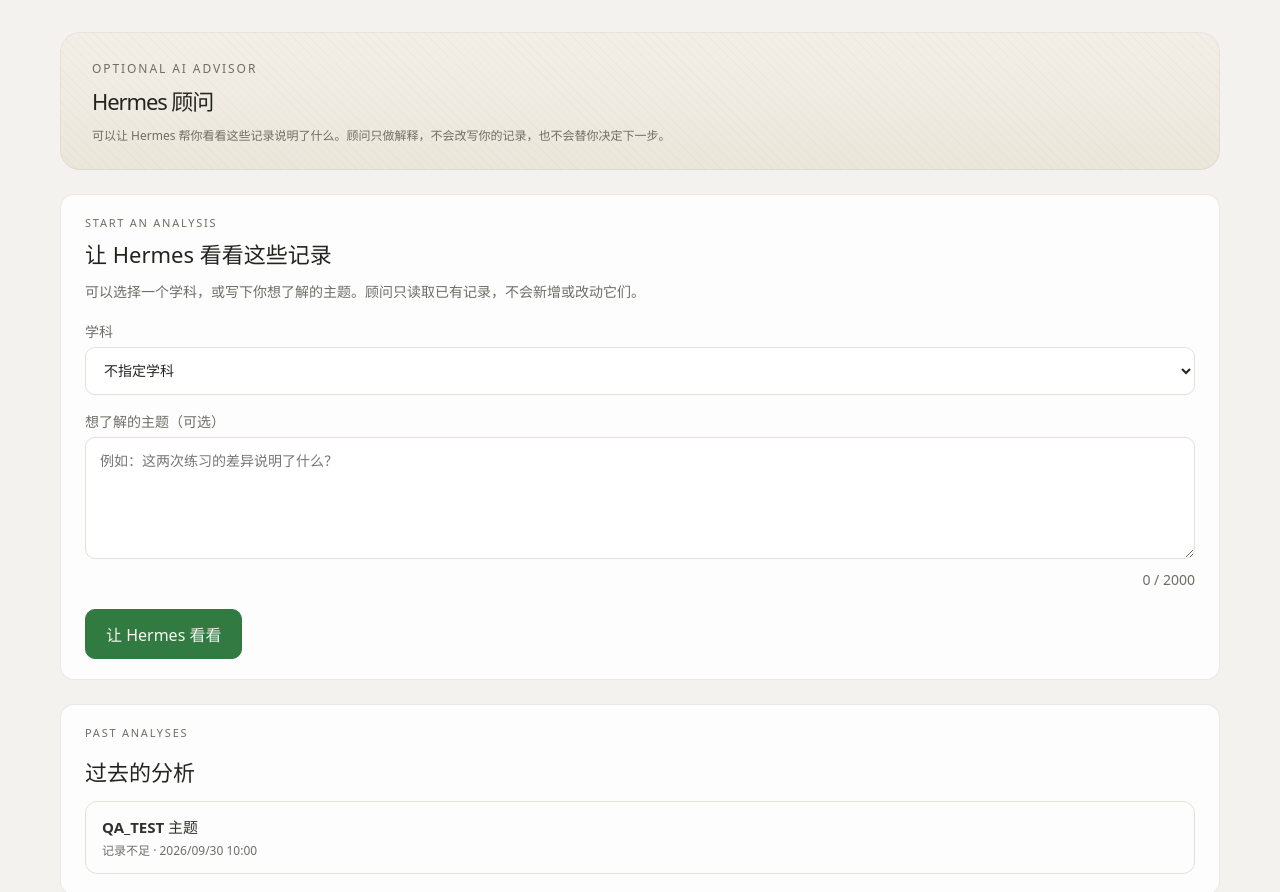
optional AI advisor › shows the standard insufficient-records message
Click the button with aria-label "打开分析：QA_TEST 主题". click: (150, 827)
box: [85,800,1195,874]
(page scrolled)
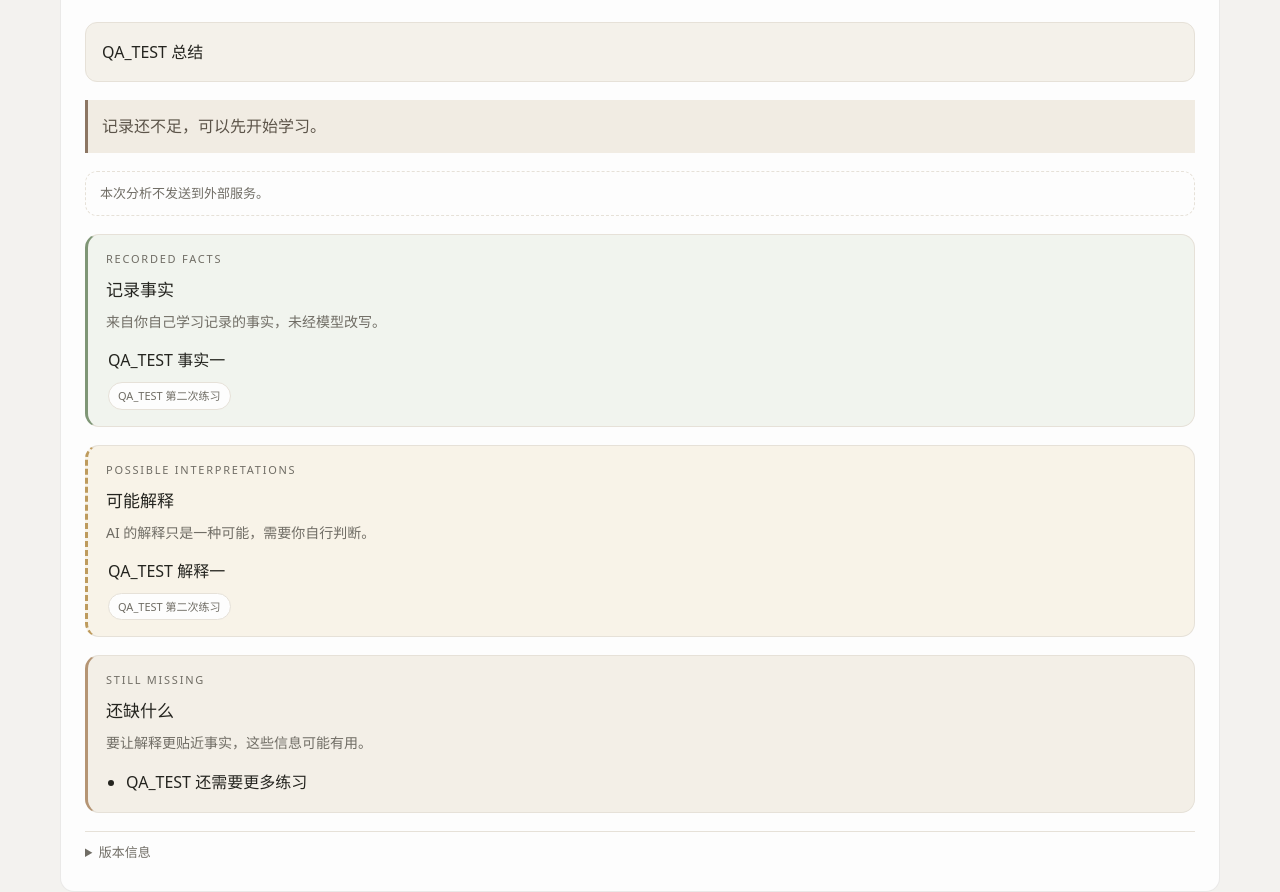
Check: the text "记录还不足，可以先开始学习。" is shown, box [102,115,326,137]
Check: the list item "QA_TEST 还需要更多练习" is shown, box [126,771,307,793]
